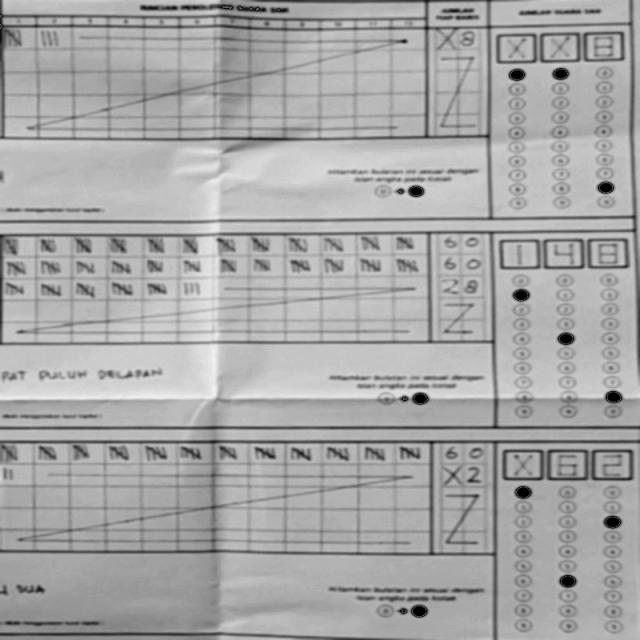Suara: (489, 24, 628, 62), (494, 235, 632, 272), (498, 446, 635, 483)
